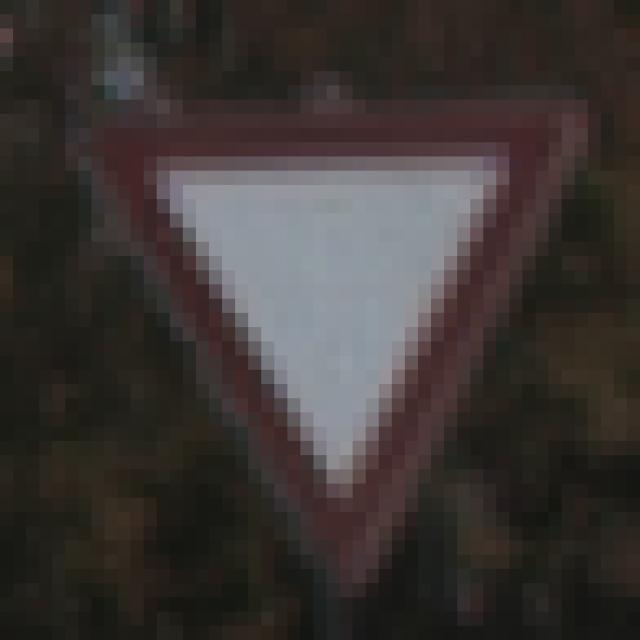Give Way: (79, 72, 576, 570)
